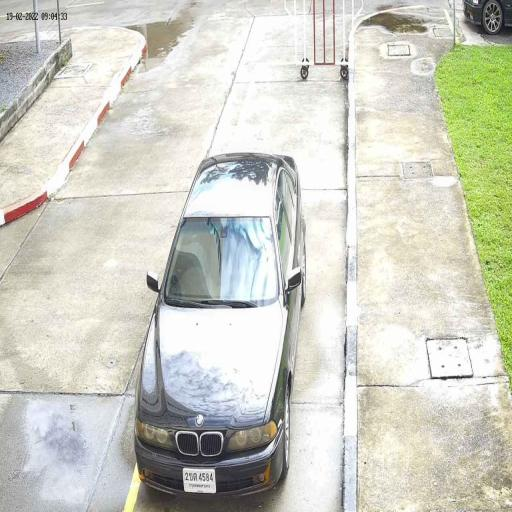car: (133, 153, 307, 503)
